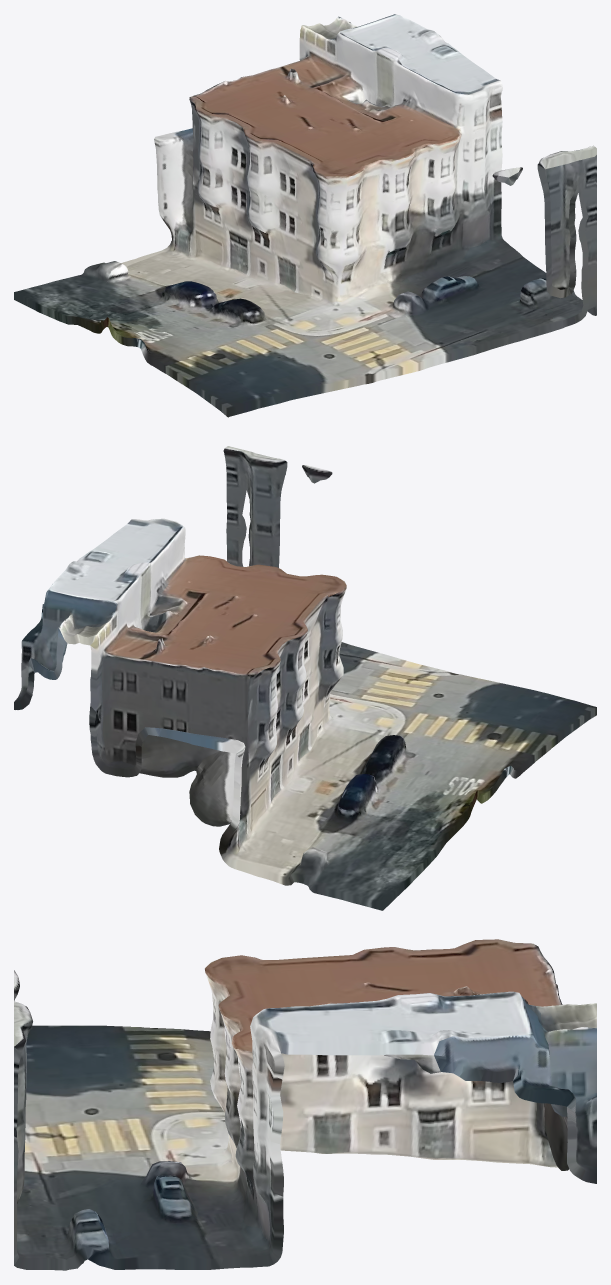
The model's file is z20-167748-405194-h0-yup-uvflip-v3-world.glb.
3 renders of one model, top to bottom at view 1: azimuth 30°, elevation 25°; view 2: azimuth 150°, elevation 25°; view 3: azimuth 270°, elevation 25°, orthographic. The views are drawn at different scales.
Bounding box in the file's own units: 30.16 × 17.16 × 30.32.
Materials: 1 (1 with a texture image).
